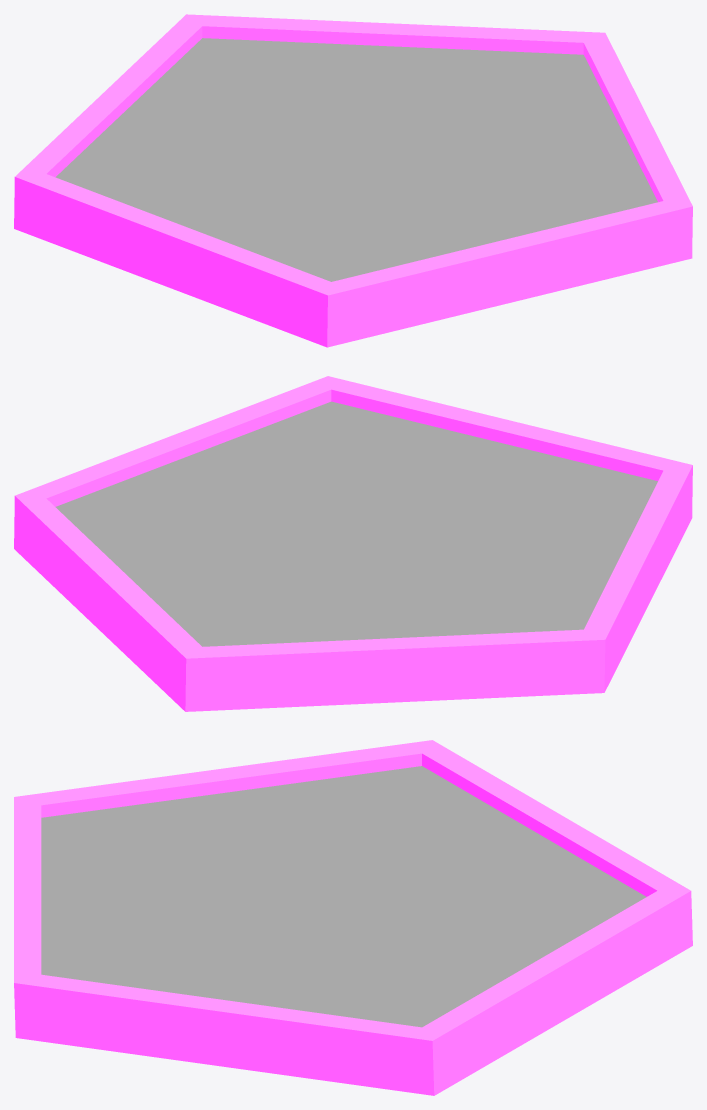
File: SFI0210036.fbx
3 views of the same model, one above another, from view 1: azimuth 30°, elevation 25°; view 2: azimuth 150°, elevation 25°; view 3: azimuth 270°, elevation 25° (orthographic). The views are drawn at different scales.
Parts seen in each view (by area): view 1: smSFI0210036; view 2: smSFI0210036; view 3: smSFI0210036.
Part boxes in pixels (x1,y1,x2,y2): smSFI0210036: [14, 14, 692, 347]; smSFI0210036: [14, 376, 692, 711]; smSFI0210036: [14, 740, 692, 1095].
Size of the model in its own units: 137 by 11.83 by 130.
